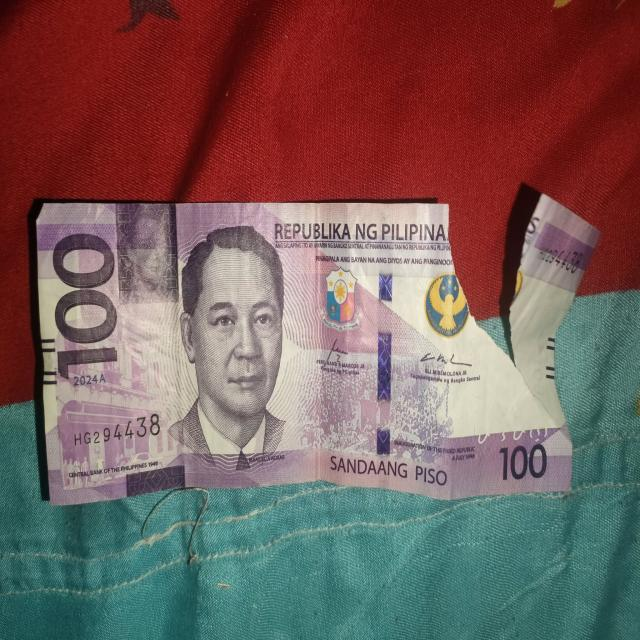broken: (32, 185, 598, 512)
torn: (426, 176, 575, 424)
